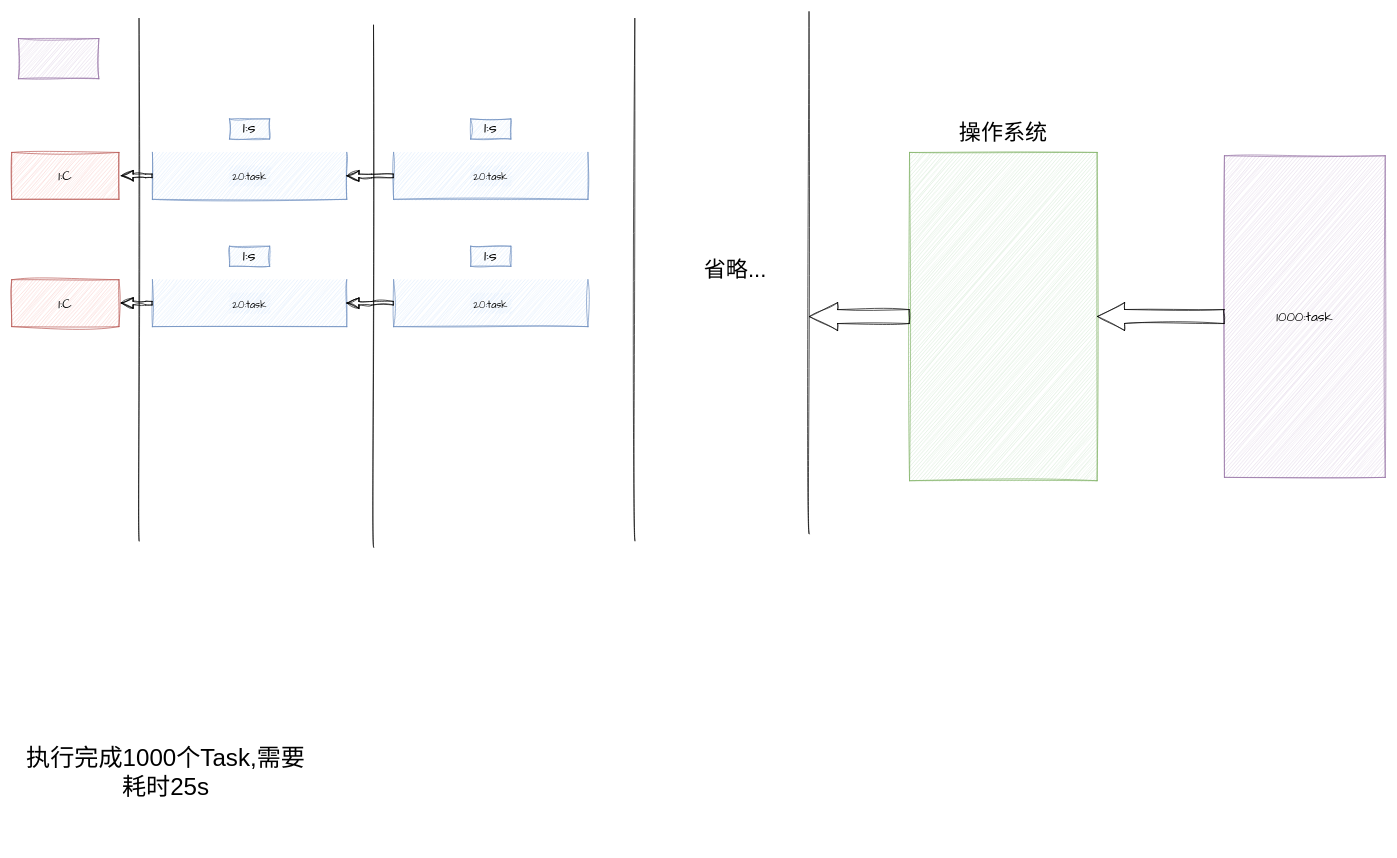
Image size: 1397x858. Some labels were removed from this diagram. The shapes that lost their labels are listed below. From the top down, each one's centre as x and y in pixels, then its label:
At point (58, 58): "task:0.5s".
At point (1003, 316): "4:Thread".
